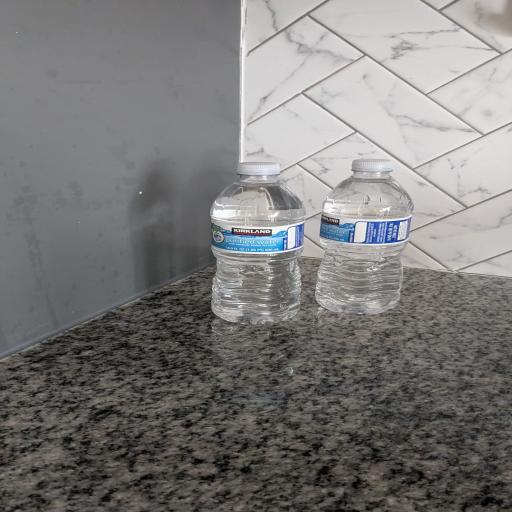waterbottle: (211, 163, 305, 324), (316, 159, 413, 313)
